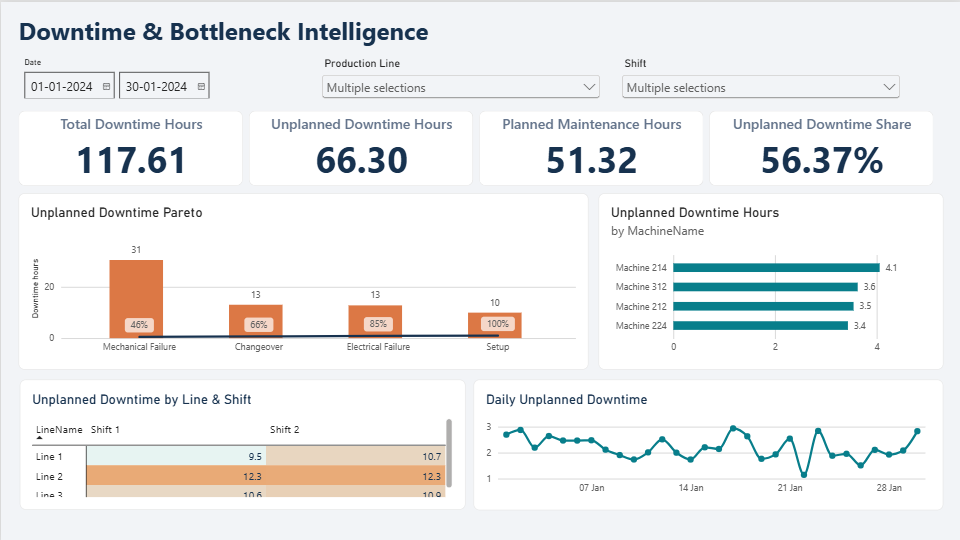

The page's visual inventory and layout, read from the dashboard file:
{"tool":"powerbi","page":{"name":"Downtime & Bottleneck Intelligence","canvas":[1280,720],"ordinal":2},"visuals":[{"type":"textbox","box":[24,16,1232,46],"z":0},{"type":"slicer","fields":{"Values":["DimDate.Date"]},"box":[24,73,380,55],"z":1000},{"type":"slicer","fields":{"Values":["DimLine.LineName"]},"box":[424,73,380,55],"z":2000},{"type":"slicer","fields":{"Values":["DimShift.ShiftName"]},"box":[824,73,380,55],"z":3000},{"type":"cardVisual","fields":{"Data":["_Measures.Total Downtime Hours","_Measures.Unplanned Downtime Hours","_Measures.Planned Maintenance Hours","_Measures.Unplanned Downtime Share Pct"]},"box":[24,145,1223,100],"z":4000},{"type":"lineClusteredColumnComboChart","title":"Unplanned Downtime Pareto","fields":{"Category":["DimReason.Reason Label"],"Y":["_Measures.Unplanned Downtime Hours"],"Y2":["_Measures.Unplanned Pareto Cumulative Pct"]},"box":[23.3,255,760,235],"z":5000},{"type":"clusteredBarChart","fields":{"Category":["DimMachine.MachineName"],"Y":["_Measures.Unplanned Downtime Hours"]},"box":[796,254.3,460,235],"z":6000},{"type":"pivotTable","title":"Unplanned Downtime by Line & Shift","fields":{"Columns":["DimShift.ShiftName"],"Rows":["DimLine.LineName"],"Values":["_Measures.Unplanned Downtime Hours"]},"box":[24.3,502.7,594.3,173.8],"z":7000},{"type":"lineChart","title":"Daily Unplanned Downtime","fields":{"Category":["DimDate.Date"],"Y":["_Measures.Unplanned Downtime Hours"]},"box":[630,503,626,174],"z":8000}]}

Visuals, with their boxes in screenshot pixels (x1, y1, x2, y2), scaled from the page's 1280x720 canvas onto the 960x540 screenshot:
textbox: bbox(18, 12, 942, 46)
slicer - DimDate.Date: bbox(18, 55, 303, 96)
slicer - DimLine.LineName: bbox(318, 55, 603, 96)
slicer - DimShift.ShiftName: bbox(618, 55, 903, 96)
cardVisual - _Measures.Total Downtime Hours x _Measures.Unplanned Downtime Hours: bbox(18, 109, 935, 184)
"Unplanned Downtime Pareto" lineClusteredColumnComboChart: bbox(17, 191, 587, 368)
clusteredBarChart - DimMachine.MachineName x _Measures.Unplanned Downtime Hours: bbox(597, 191, 942, 367)
"Unplanned Downtime by Line & Shift" pivotTable: bbox(18, 377, 464, 507)
"Daily Unplanned Downtime" lineChart: bbox(472, 377, 942, 508)
